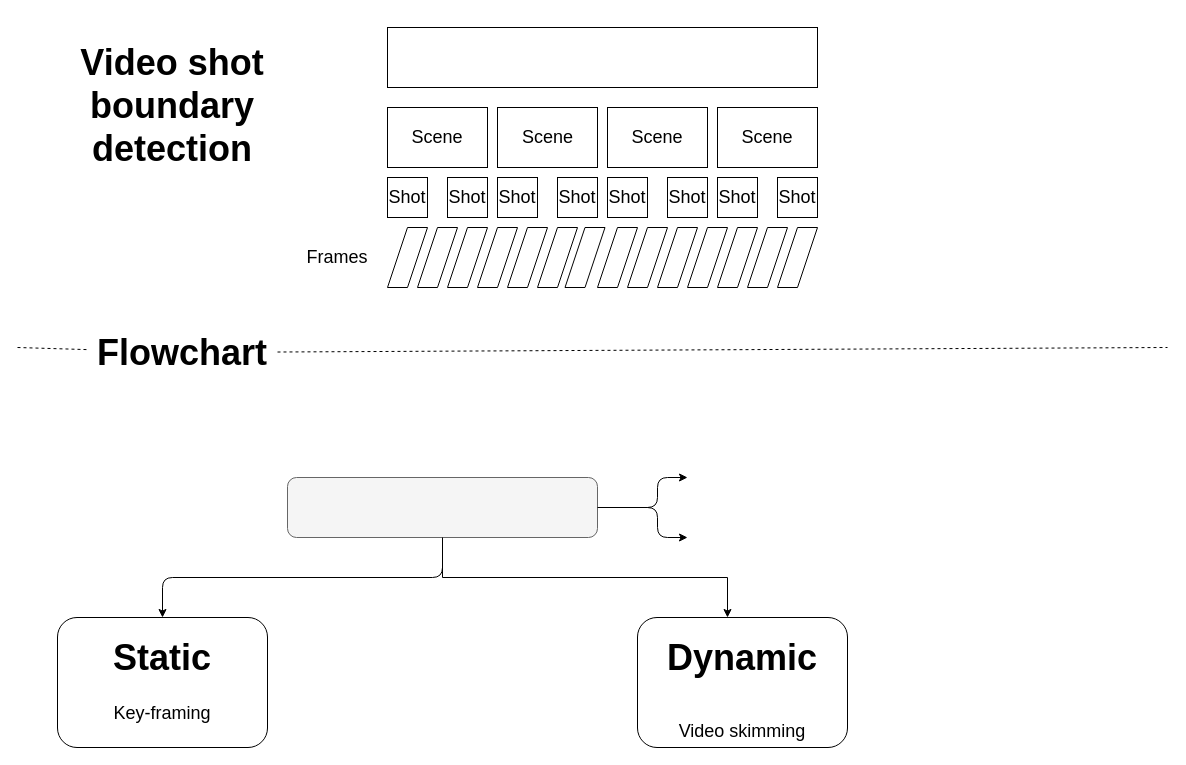
Image size: 1186x765. Some labels were removed from this diagram. The shapes that lost their labels are listed below. From the top down, each one's box as (x1, y1, x2, y2) in pixels, then its label:
(386, 26, 818, 88): Video
(286, 476, 598, 538): Video summarization
